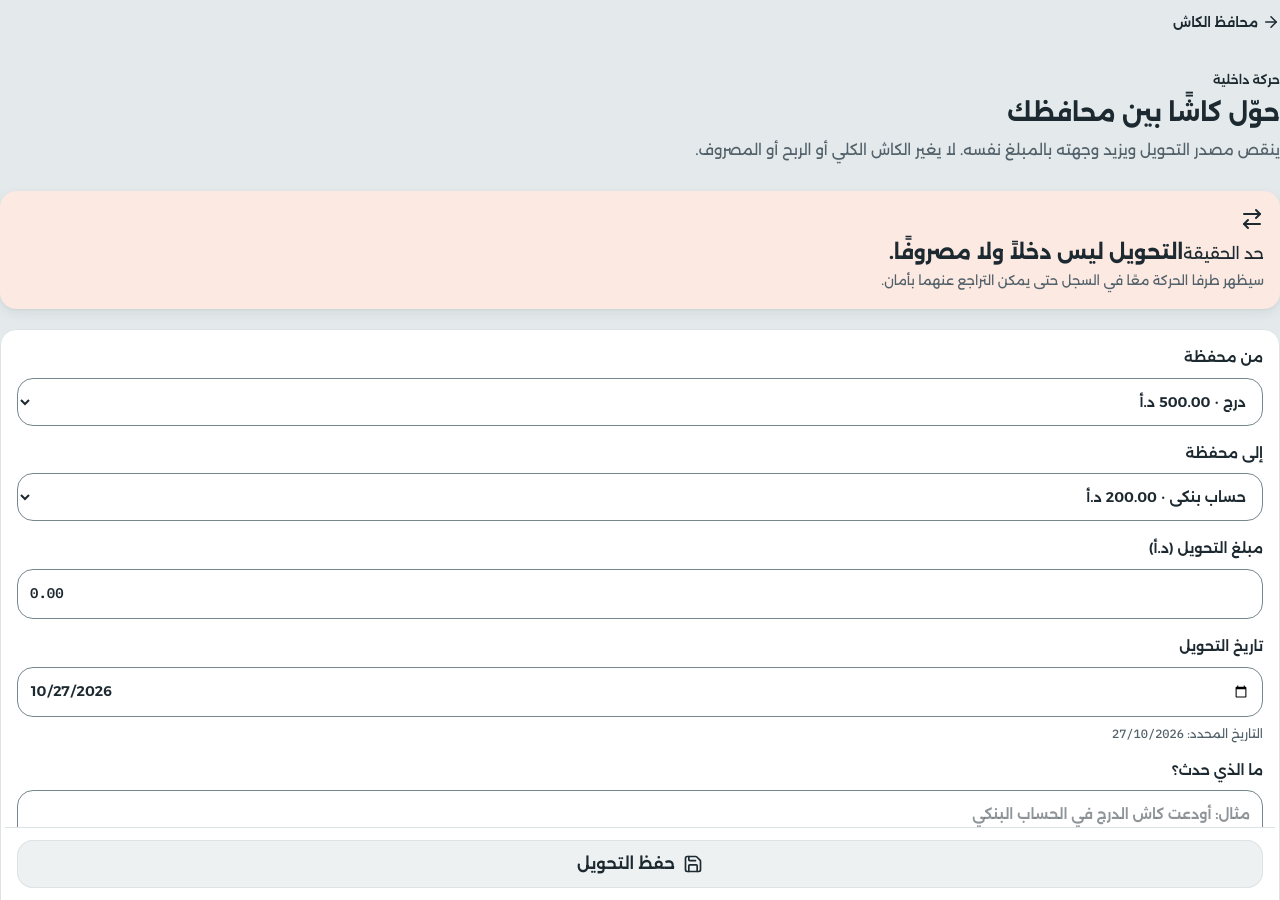
Test case: G3 hardening — cash transfer journey (page → service → store) › validation failure: honest error with no partial write to the store
This screenshot has width=1280, height=900.
expect the heading "حوّل كاشًا بين محافظك" is shown: met, box [1007,98,1279,127]
Replace the text in the field labelled "مبلغ التحويل" with "25.00" at coordinates (640, 594), box [17,569,1263,619]
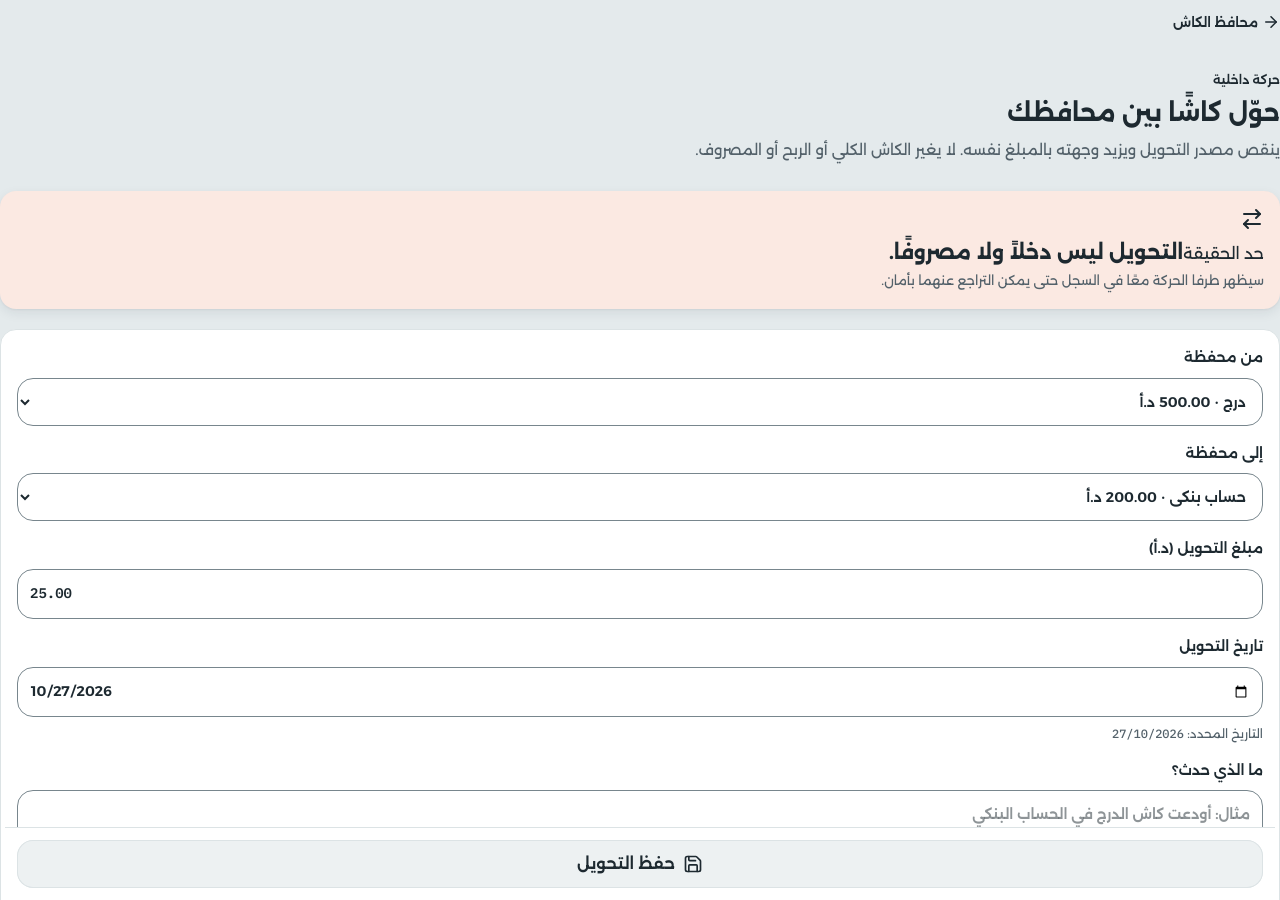
Click the button "حفظ التحويل" at coordinates (640, 864), box [17,840,1263,888]
(page scrolled)
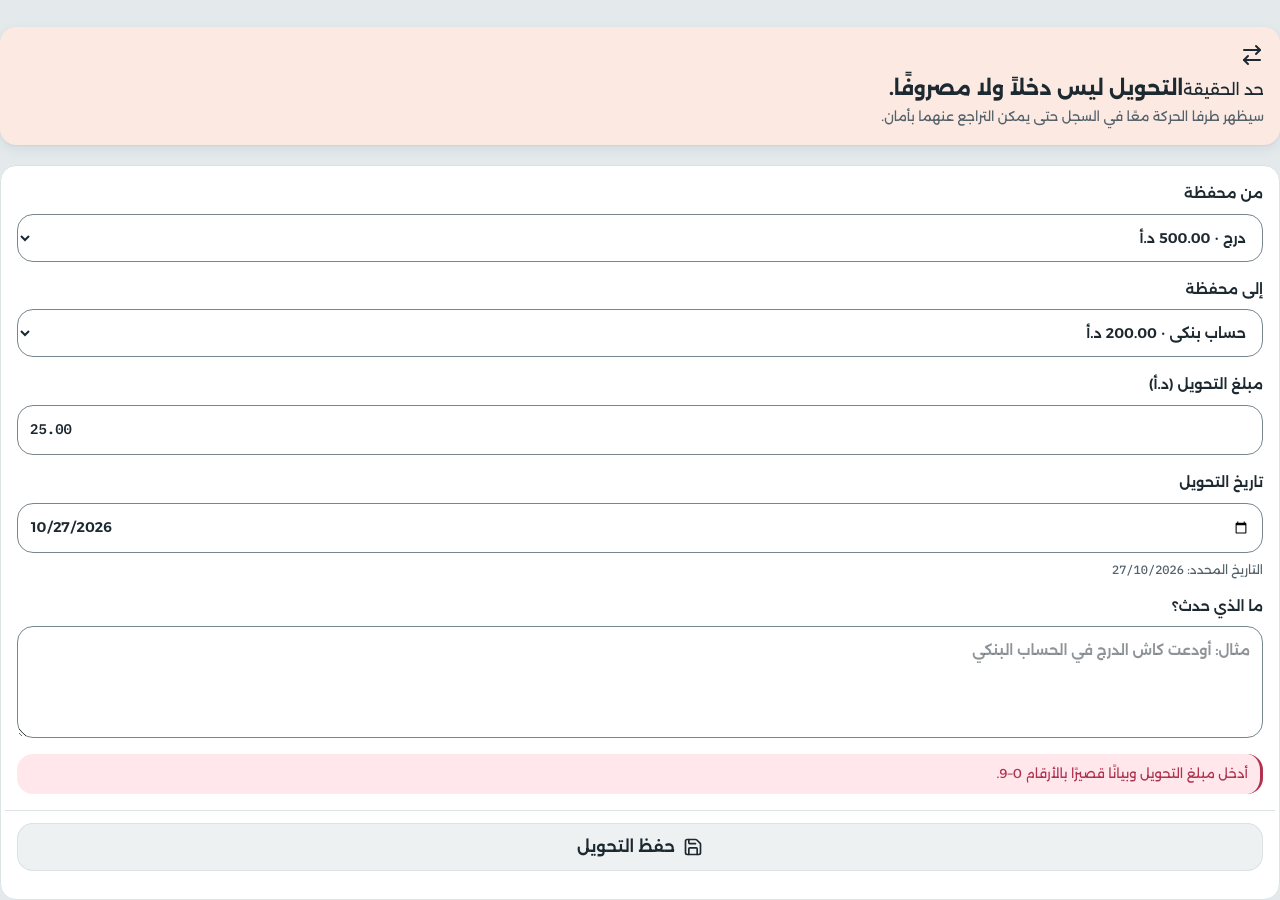
expect the message shows "أدخل مبلغ التحويل وبيانًا قصيرًا": met, box [996,765,1248,781]
